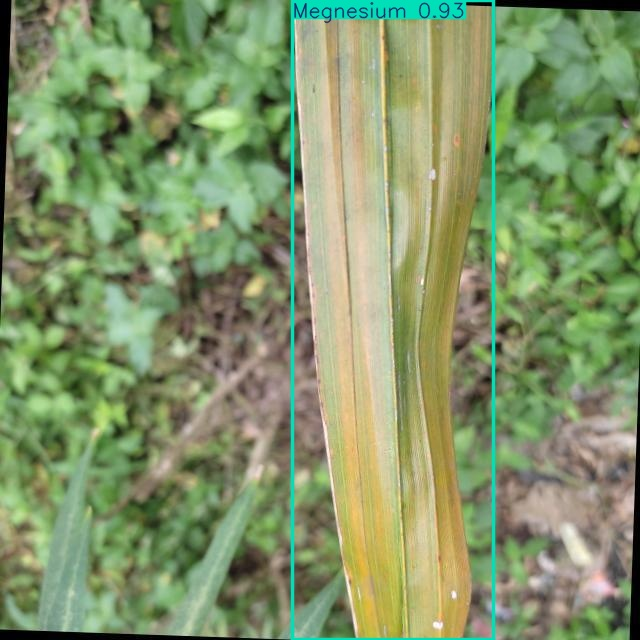Megnesium: (293, 0, 494, 640)
